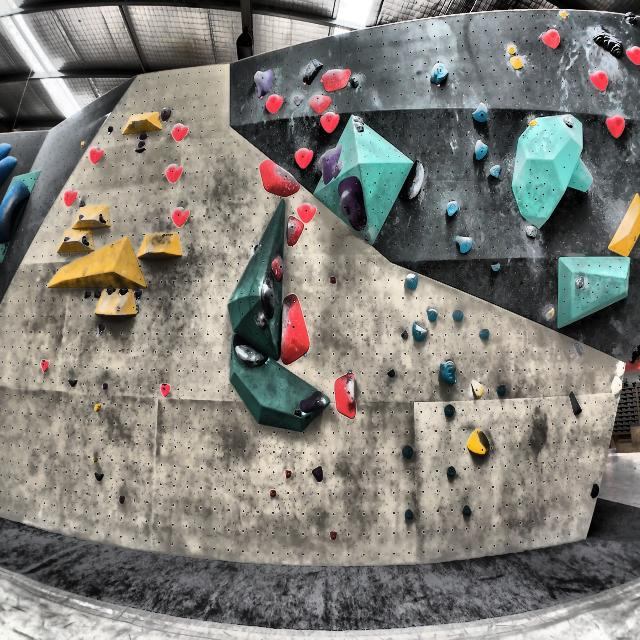Hold: (49, 233, 142, 298), (0, 175, 31, 248), (280, 296, 311, 366), (608, 194, 640, 251), (92, 286, 137, 326), (327, 372, 363, 421), (228, 332, 273, 370), (336, 178, 368, 230), (140, 233, 187, 264), (258, 161, 299, 194), (398, 156, 422, 208), (318, 141, 347, 182), (591, 23, 623, 58), (296, 381, 326, 418), (124, 110, 160, 138), (56, 228, 93, 255), (320, 61, 352, 92), (72, 201, 110, 226), (466, 101, 495, 131), (250, 68, 280, 96), (301, 53, 324, 88), (464, 428, 490, 456), (0, 151, 19, 188), (608, 361, 626, 399), (438, 356, 458, 388), (286, 212, 304, 247), (316, 114, 344, 136), (162, 164, 186, 189), (426, 64, 456, 84), (170, 204, 192, 230), (271, 253, 290, 283), (306, 97, 337, 114), (538, 29, 561, 51), (264, 93, 284, 118), (472, 140, 492, 165), (405, 272, 425, 296), (589, 68, 610, 90), (87, 148, 110, 167), (457, 231, 474, 256), (290, 148, 312, 167), (624, 44, 640, 70), (295, 203, 318, 221), (568, 390, 582, 419), (158, 378, 178, 398), (488, 160, 504, 183), (608, 114, 624, 137), (62, 186, 79, 206), (448, 200, 464, 220), (524, 223, 540, 243), (412, 324, 429, 342), (38, 357, 52, 376), (498, 380, 510, 402), (172, 126, 189, 141), (489, 258, 504, 275), (0, 136, 12, 157), (459, 499, 471, 520), (586, 479, 599, 498), (402, 442, 414, 462), (541, 306, 556, 322), (573, 341, 587, 358), (312, 465, 323, 486), (450, 310, 465, 325), (160, 107, 174, 123), (400, 510, 417, 523), (510, 56, 525, 70), (574, 273, 586, 290), (423, 309, 439, 321), (442, 402, 454, 417), (444, 466, 456, 480), (66, 377, 80, 389), (282, 468, 294, 480), (329, 531, 338, 546), (327, 276, 342, 285), (478, 331, 491, 341), (564, 116, 574, 129), (530, 115, 538, 128), (402, 328, 410, 341), (506, 43, 516, 53), (99, 383, 109, 392), (95, 474, 105, 483), (117, 494, 126, 504), (269, 489, 279, 498), (92, 406, 104, 413), (388, 369, 397, 377), (91, 454, 98, 464)
